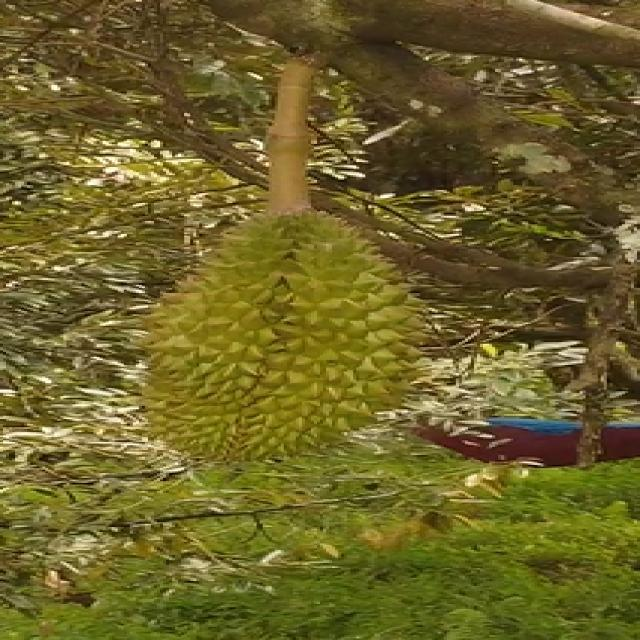immature: (123, 208, 439, 458)
